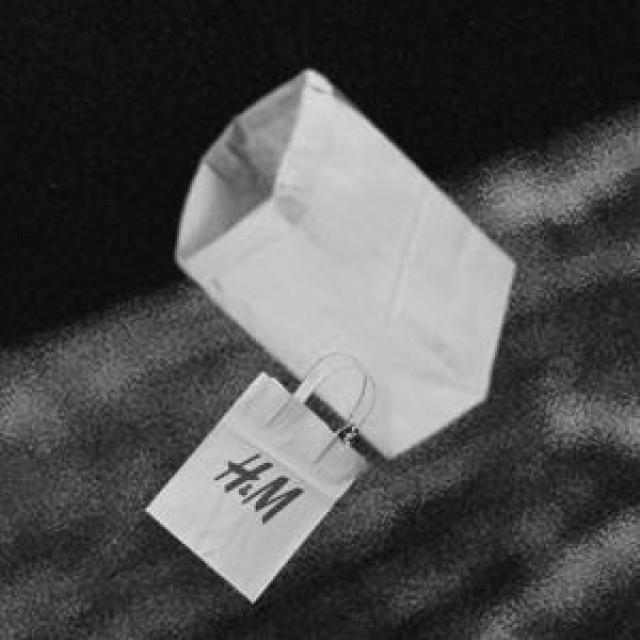paper: (173, 66, 510, 452), (143, 369, 365, 597)
